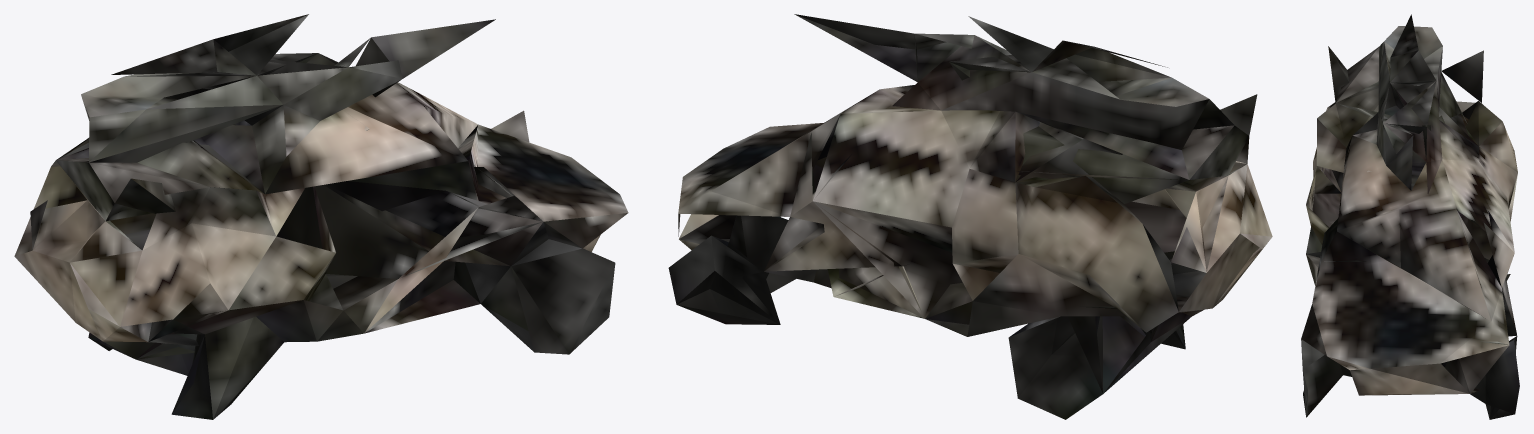
The model's file is grad_mlrs_1748547365_lod1.glb.
The picture shows the model from 3 angles, left to right: view 1: azimuth 30°, elevation 25°; view 2: azimuth 150°, elevation 25°; view 3: azimuth 270°, elevation 25°; orthographic projection. The views are drawn at different scales.
Bounding box in the file's own units: 7.89 × 4.71 × 3.54.
1 material, 1 textured.
